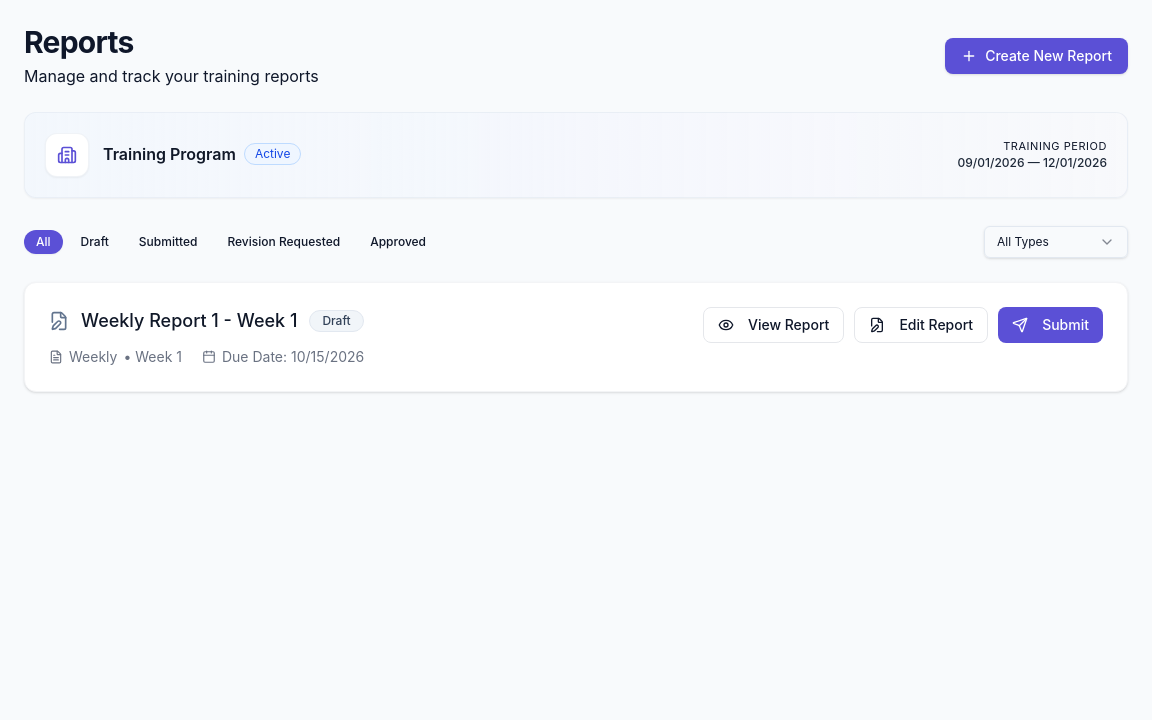
Test: ReportsPage › opens view report dialog when clicking view button
Click the button "View Report". click: {"x": 774, "y": 325}
box: x1=703 y1=307 x2=844 y2=343
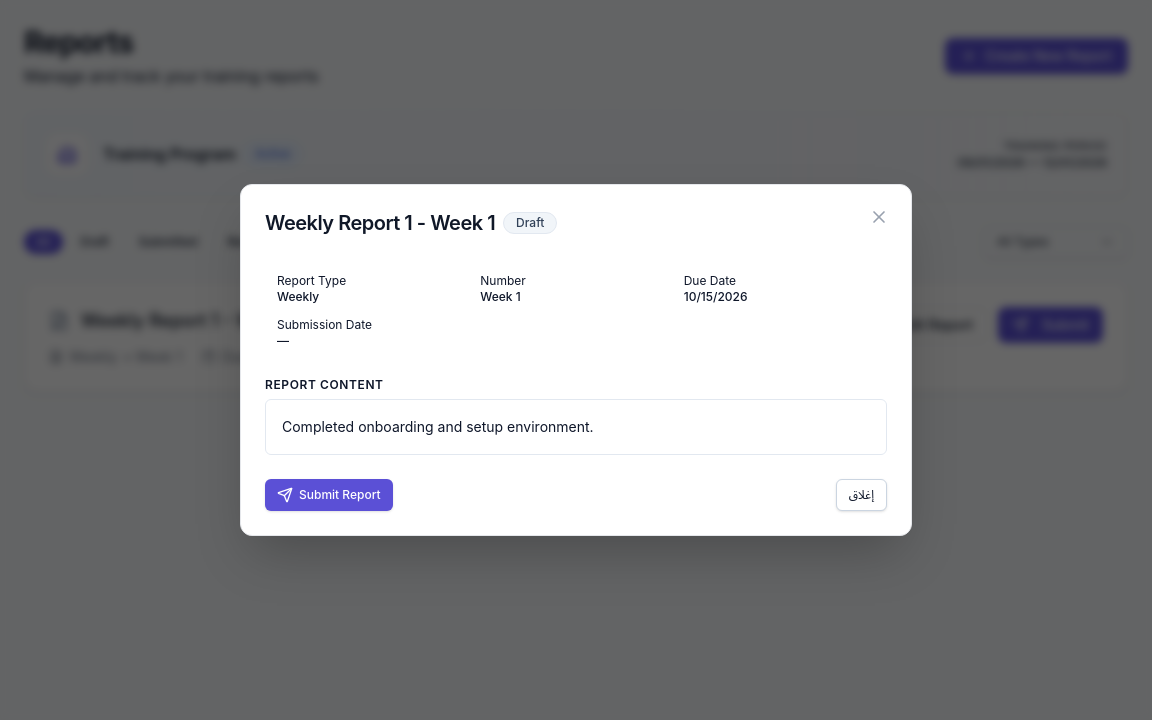
Result: the text "Completed onboarding and setup environment." is shown at x1=265 y1=399 x2=887 y2=455
